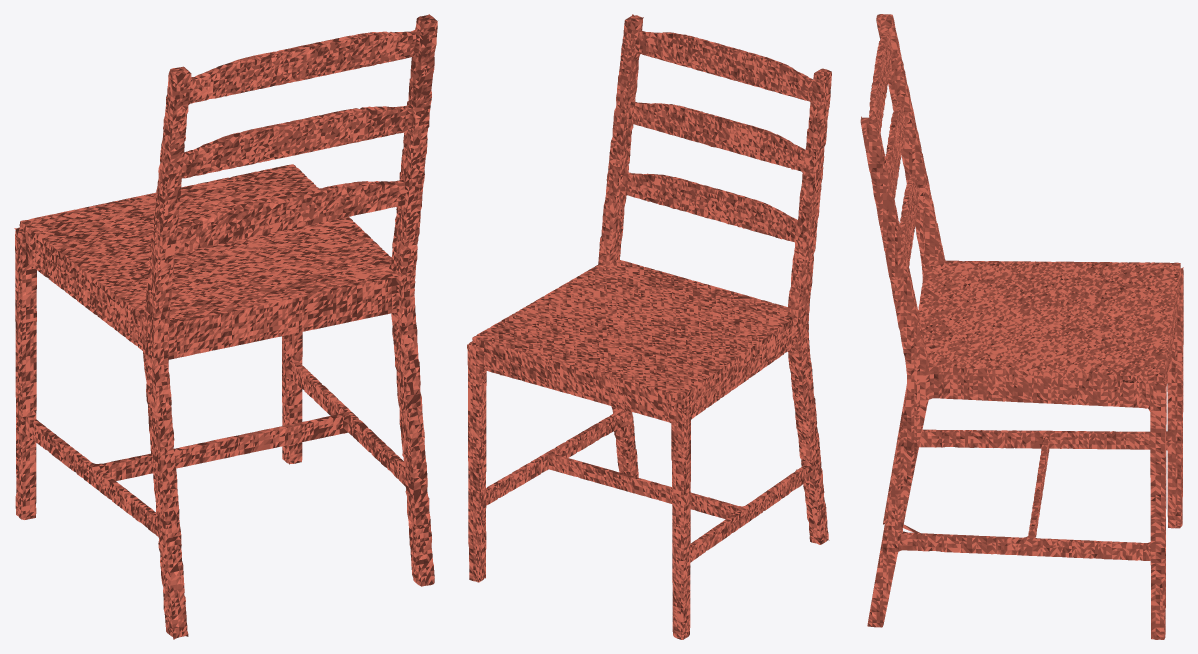
Rendered from hum_03_chair_overhead_props.glb.
3 views of the same model, side by side, from view 1: azimuth 30°, elevation 25°; view 2: azimuth 150°, elevation 25°; view 3: azimuth 270°, elevation 25° (orthographic). The views are drawn at different scales.
Visible parts, largest first — view 1: o00; view 2: o00; view 3: o00.
Boxes of the visible parts, <box> form: o00: <box>14,14,437,639</box>; o00: <box>467,14,831,639</box>; o00: <box>860,14,1183,639</box>.
Bounding box in the file's own units: 0.4559 × 0.8793 × 0.5102.
